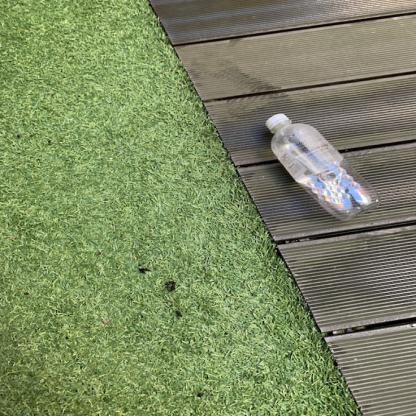plastic-bottles: (256, 105, 384, 226)
